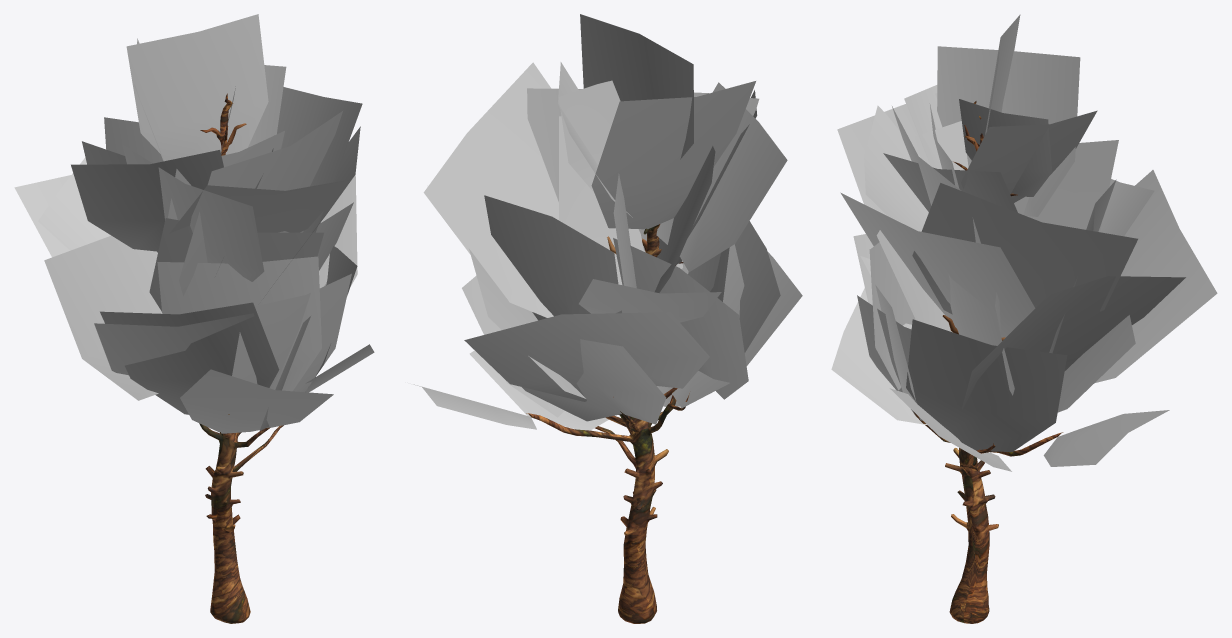
Rendered from pineA.fbx.
3 renders of one model, left to right at view 1: azimuth 30°, elevation 25°; view 2: azimuth 150°, elevation 25°; view 3: azimuth 270°, elevation 25°, orthographic. The views are drawn at different scales.
Visible parts, largest first — view 1: leaf27, leaf, leaf4, leaf5, leaf26, pineB1:Group39270, leaf11, leaf17, leaf28, leaf6, leaf12, leaf25 (+14 smaller); view 2: leaf25, leaf16, leaf30, leaf20, leaf26, pineB1:Group39270, leaf27, leaf21, leaf, leaf13, leaf1, leaf31 (+11 smaller); view 3: leaf9, leaf25, leaf16, leaf29, leaf23, leaf30, pineB1:Group39270, leaf24, leaf15, leaf12, leaf11, leaf13 (+17 smaller).
Part boxes in pixels (bbox=[...]): leaf27: bbox=[126, 14, 268, 160]; leaf: bbox=[44, 235, 162, 400]; leaf4: bbox=[157, 256, 321, 391]; leaf5: bbox=[100, 302, 279, 414]; leaf26: bbox=[71, 150, 223, 251]; pineB1:Group39270: bbox=[199, 93, 283, 623]; leaf11: bbox=[180, 369, 333, 433]; leaf17: bbox=[122, 144, 264, 281]; leaf28: bbox=[179, 111, 342, 295]; leaf6: bbox=[232, 273, 351, 392]; leaf12: bbox=[169, 179, 350, 233]; leaf25: bbox=[277, 87, 362, 232]; leaf25: bbox=[423, 62, 558, 317]; leaf16: bbox=[591, 81, 755, 229]; leaf30: bbox=[464, 312, 709, 401]; leaf20: bbox=[484, 195, 621, 320]; leaf26: bbox=[656, 82, 787, 272]; pineB1:Group39270: bbox=[526, 224, 689, 623]; leaf27: bbox=[580, 14, 693, 159]; leaf21: bbox=[522, 339, 666, 424]; leaf: bbox=[613, 238, 748, 399]; leaf13: bbox=[558, 80, 620, 192]; leaf1: bbox=[666, 244, 802, 408]; leaf31: bbox=[579, 279, 721, 322]; leaf9: bbox=[906, 319, 1067, 451]; leaf25: bbox=[912, 183, 1137, 314]; leaf16: bbox=[937, 46, 1080, 216]; leaf29: bbox=[840, 192, 1035, 340]; leaf23: bbox=[961, 276, 1185, 409]; leaf30: bbox=[1095, 170, 1217, 382]; pineB1:Group39270: bbox=[913, 101, 1063, 623]; leaf24: bbox=[961, 110, 1097, 202]; leaf15: bbox=[1014, 140, 1118, 232]; leaf12: bbox=[864, 105, 928, 231]; leaf11: bbox=[831, 288, 926, 424]; leaf13: bbox=[959, 99, 1052, 196].
Bounding box in the file's own units: 470 × 831 × 503.
